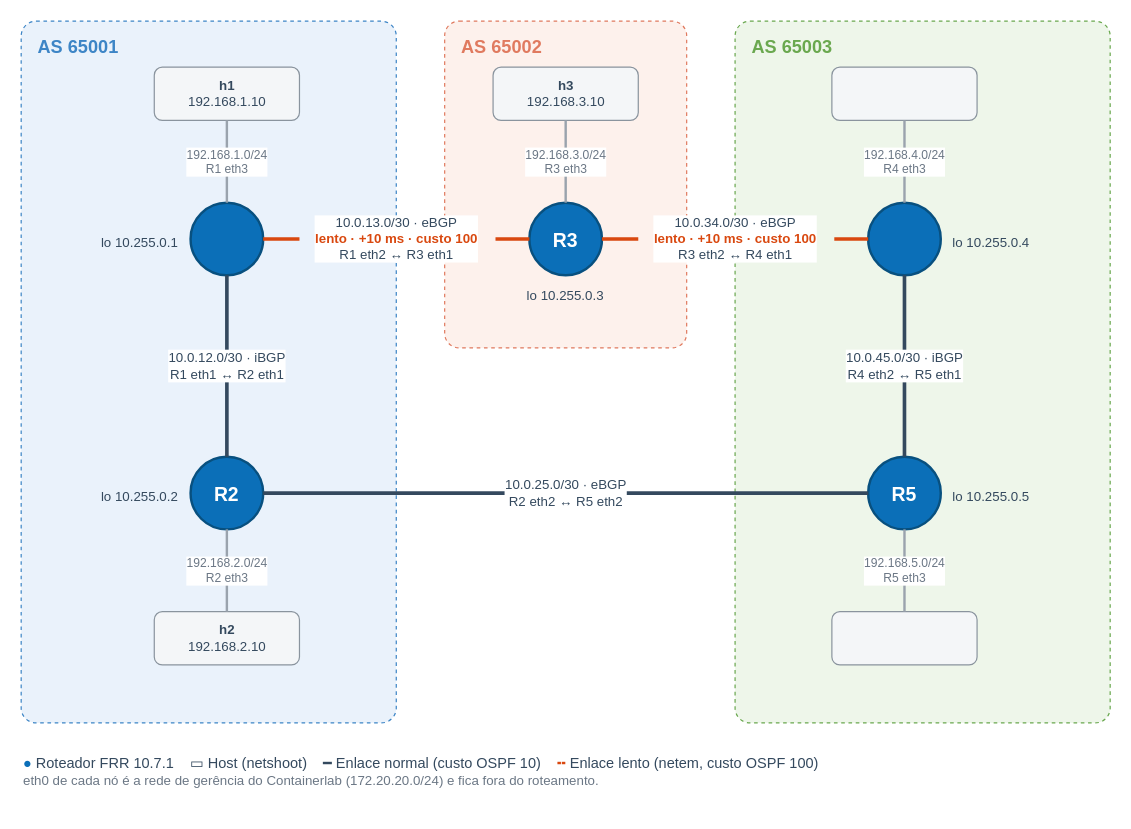
Some shapes in this 1131 by 829 pixel diagram are drawn without their labels. The shapes that lost their labels are listed below. From the top down, each one's centre as x and y in pixels, then its label:
pixel 904 93: h4 192.168.4.10
pixel 226 238: R1
pixel 903 238: R4
pixel 904 637: h5 192.168.5.10
